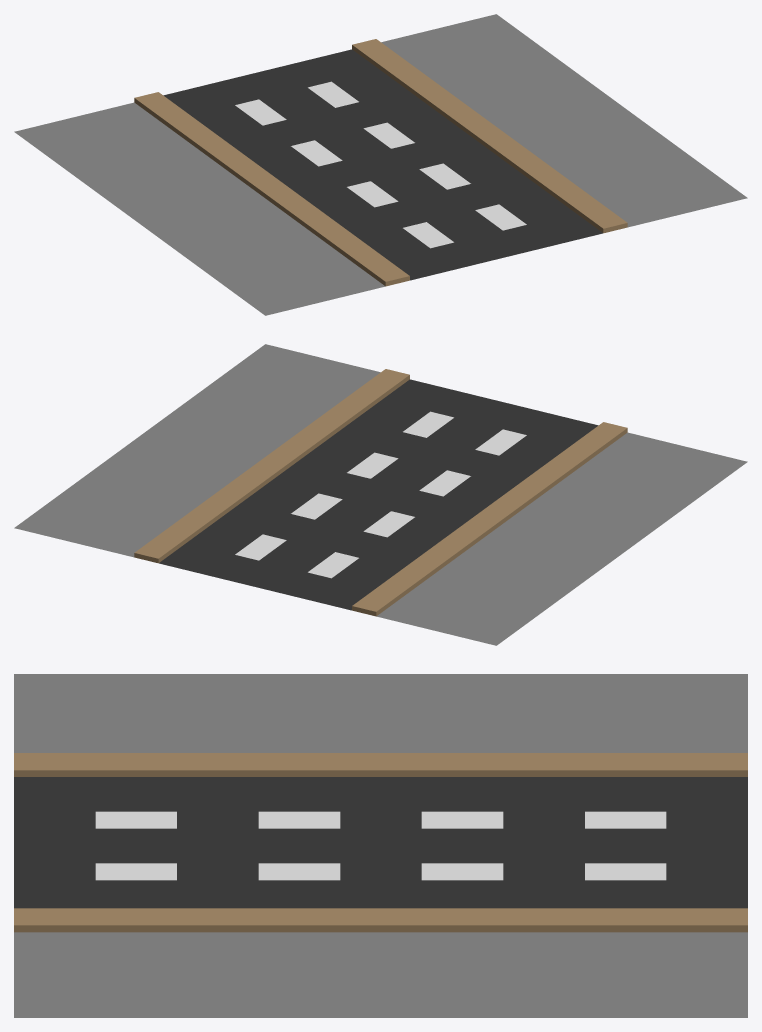
The model's file is Road Piece.fbx.
3 renders of one model, top to bottom at view 1: azimuth 30°, elevation 25°; view 2: azimuth 150°, elevation 25°; view 3: azimuth 270°, elevation 25°, orthographic. The views are drawn at different scales.
Visible parts, largest first — view 1: Plane; view 2: Plane; view 3: Plane.
Part boxes in pixels (x1,y1,x2,y2): Plane: (14, 14, 747, 315); Plane: (14, 344, 747, 645); Plane: (14, 674, 747, 1017).
Bounding box in the file's own units: 1995 × 18.28 × 1800.
